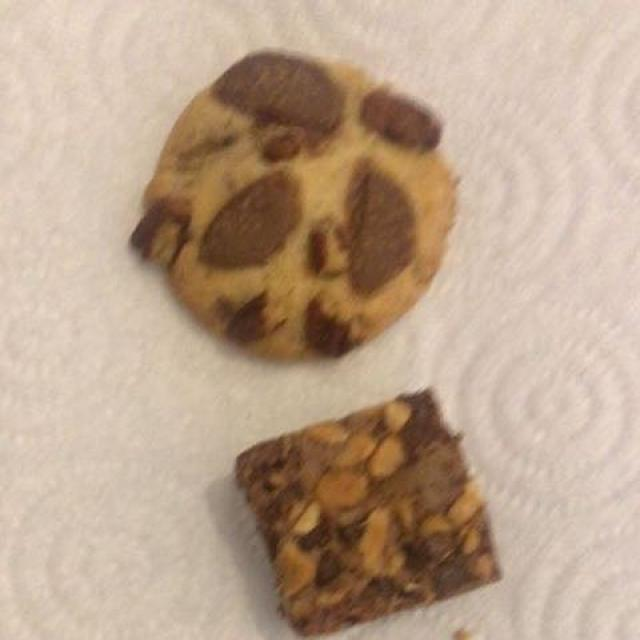brownie: (231, 370, 505, 623)
cookies: (146, 43, 438, 341)
